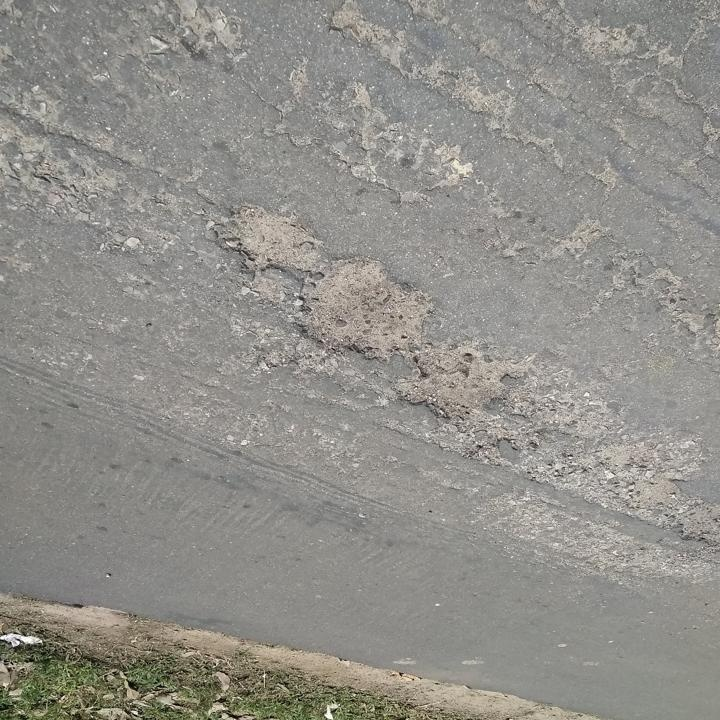pothole: (578, 441, 719, 553), (292, 256, 437, 362), (394, 340, 513, 428), (217, 198, 321, 278)
